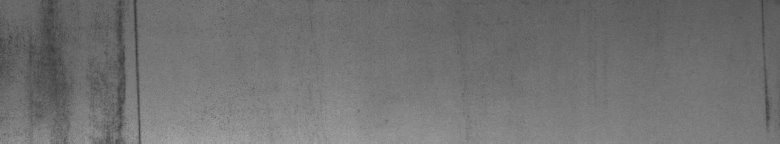ka: (4, 4, 145, 136)
